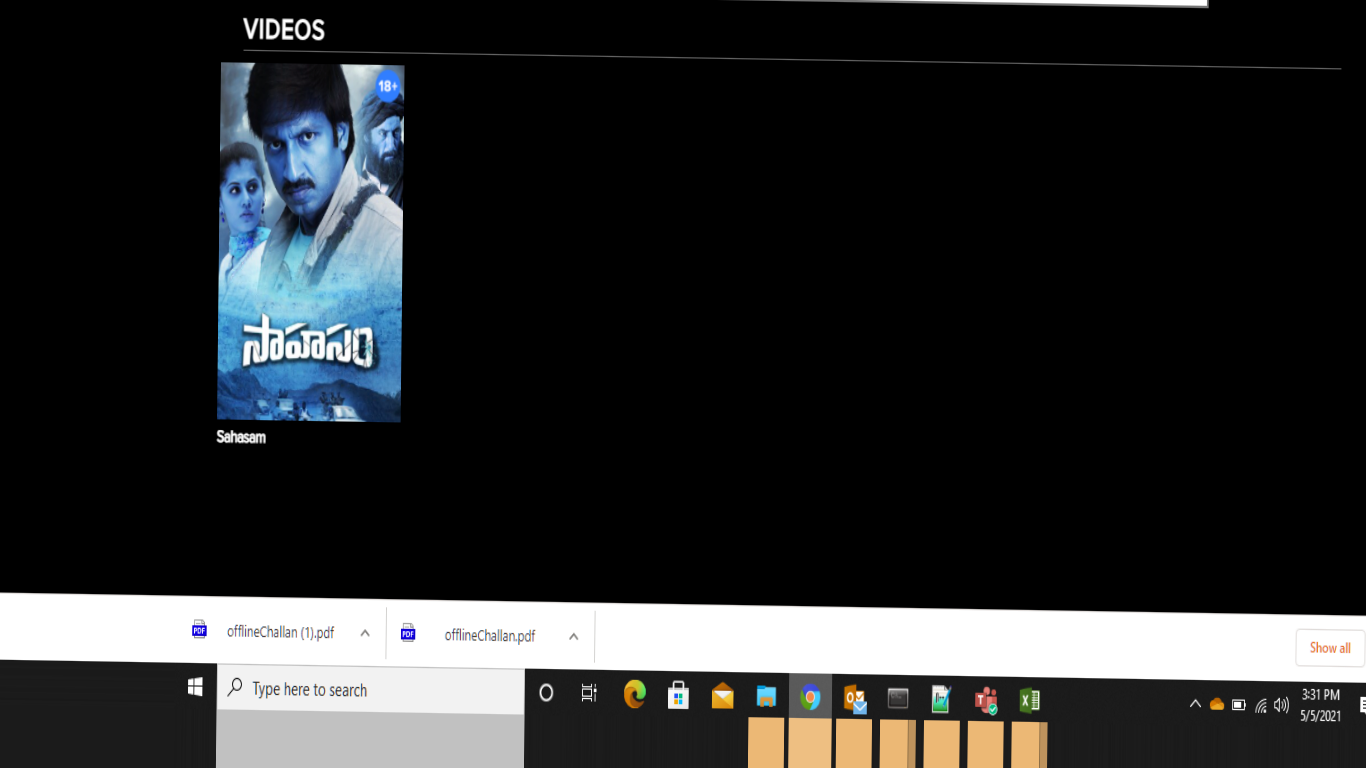resultsfound: (227, 1, 537, 56)
